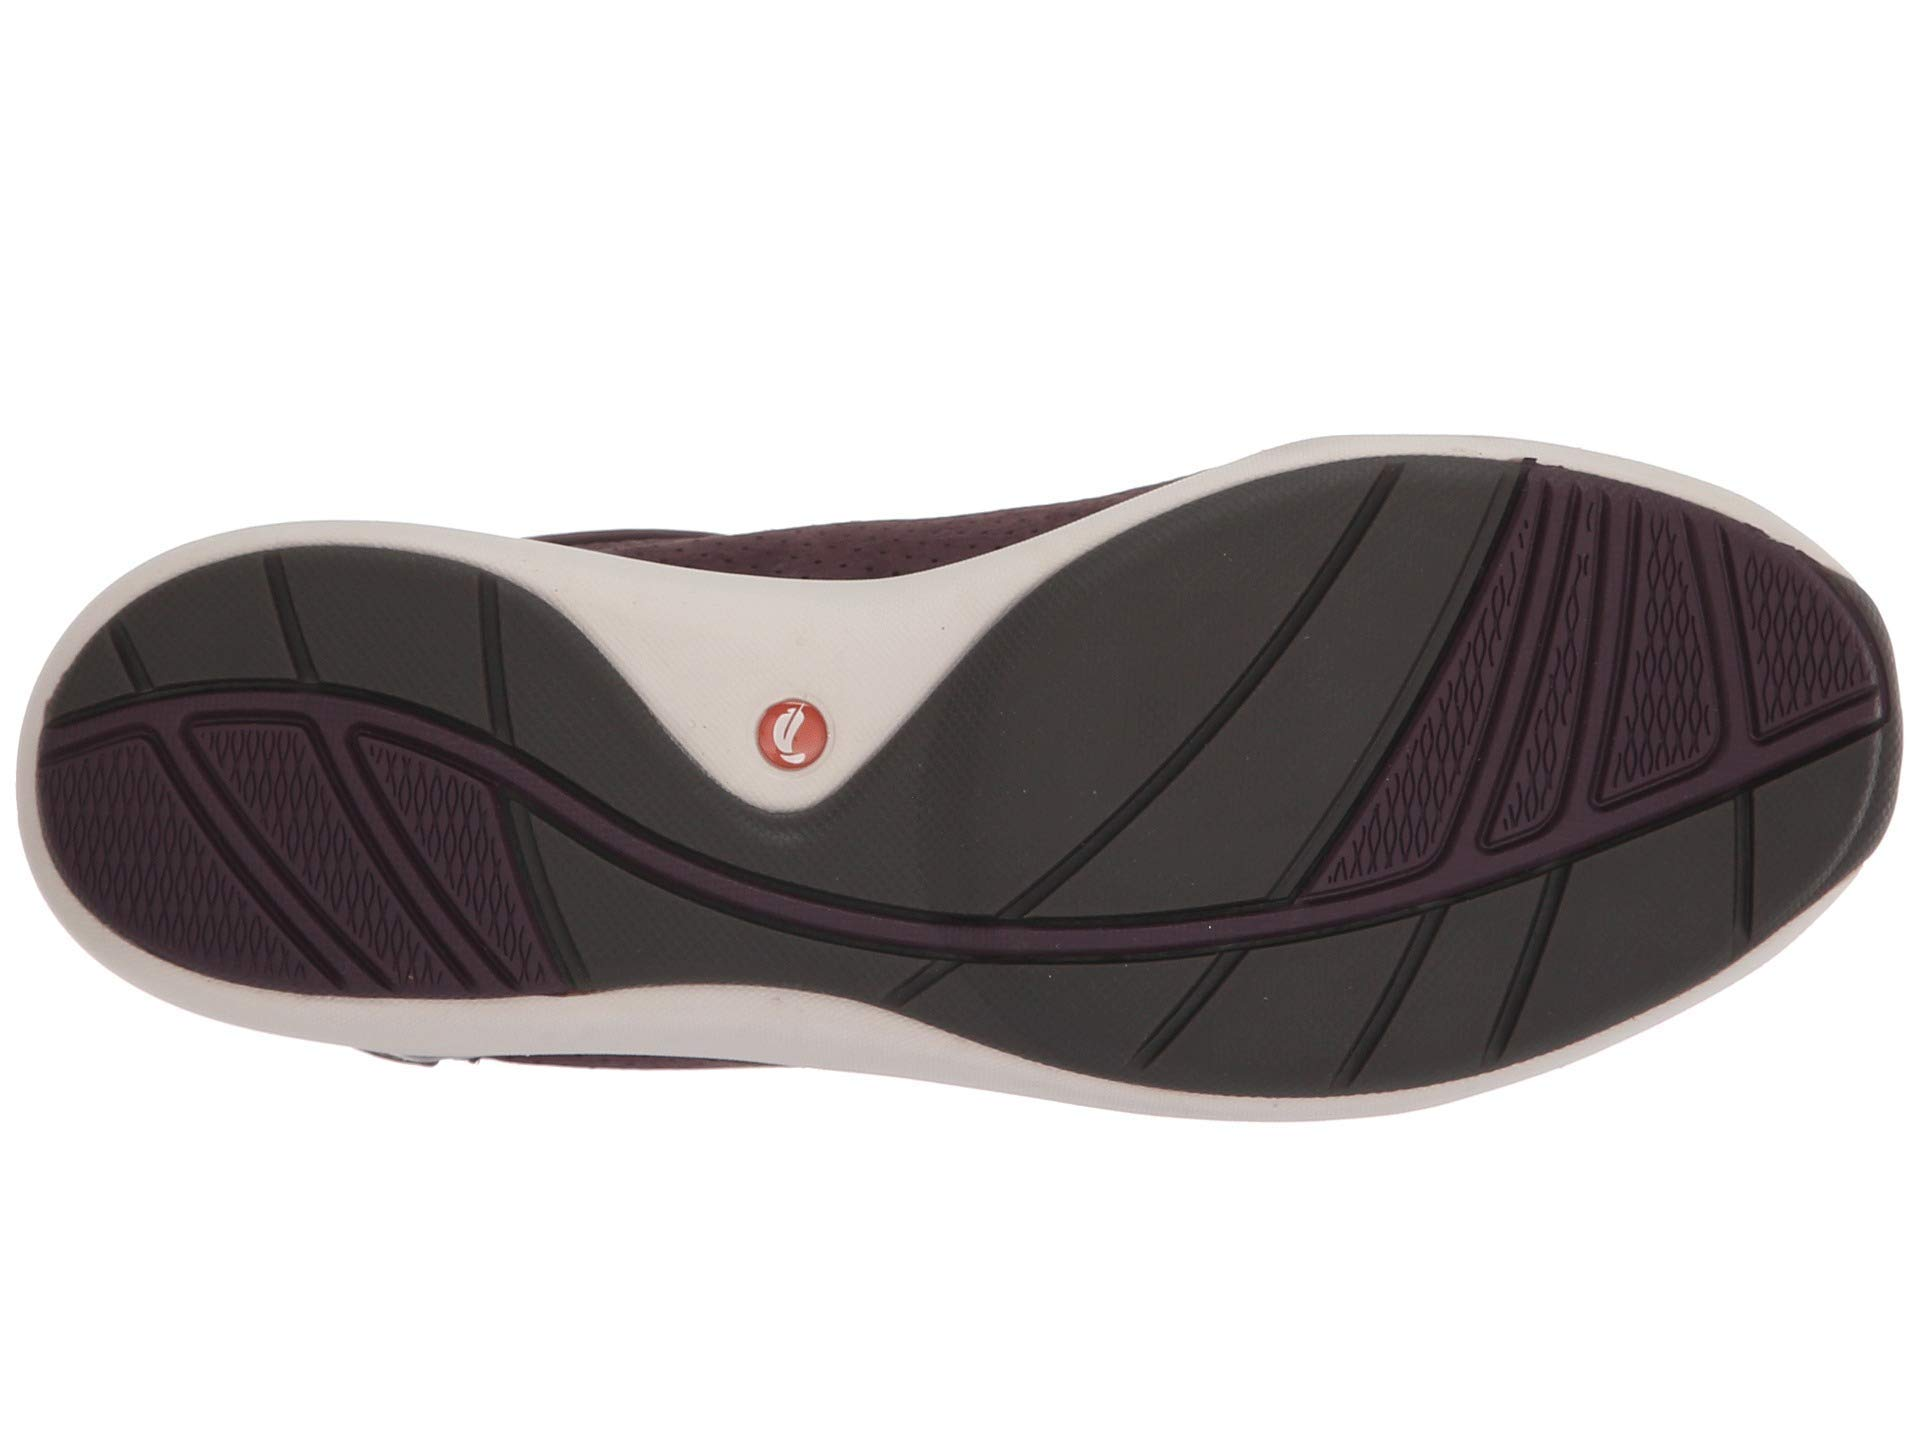circle: (757, 694, 839, 784)
line: (130, 650, 600, 1016), (1048, 610, 1281, 1044), (1603, 570, 1843, 755)
quad: (130, 650, 600, 1016), (1315, 847, 1581, 1119), (148, 768, 503, 939), (1603, 570, 1843, 755), (1624, 673, 1723, 762)
